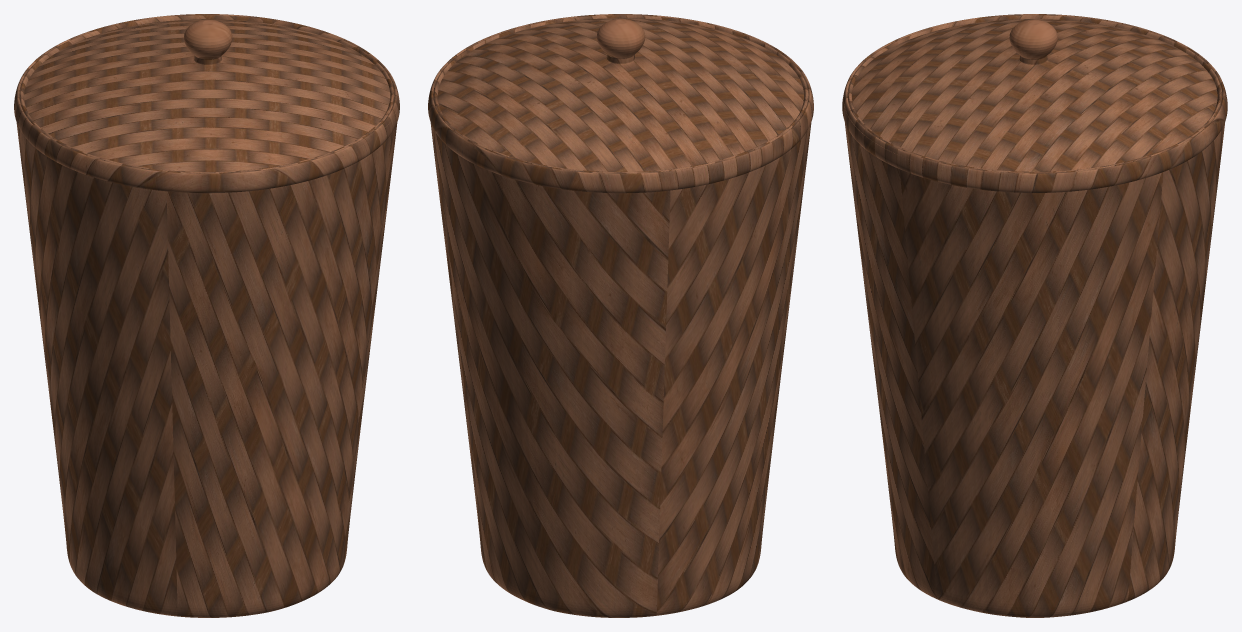
The model's file is basket 3 lid.fbx.
3 renders of one model, left to right at view 1: azimuth 30°, elevation 25°; view 2: azimuth 150°, elevation 25°; view 3: azimuth 270°, elevation 25°, orthographic.
Parts seen in each view (by area): view 1: Cylinder.005, Lid.002; view 2: Cylinder.005, Lid.002; view 3: Cylinder.005, Lid.002.
Part boxes in pixels (x1,y1,x2,y2): Cylinder.005: (14, 14, 399, 617); Lid.002: (24, 19, 397, 171); Cylinder.005: (428, 14, 813, 617); Lid.002: (438, 18, 803, 171); Cylinder.005: (842, 14, 1227, 617); Lid.002: (843, 19, 1217, 171).
Size of the model in its own units: 67.46 by 104 by 67.46.
Materials: 1 (1 with a texture image).
